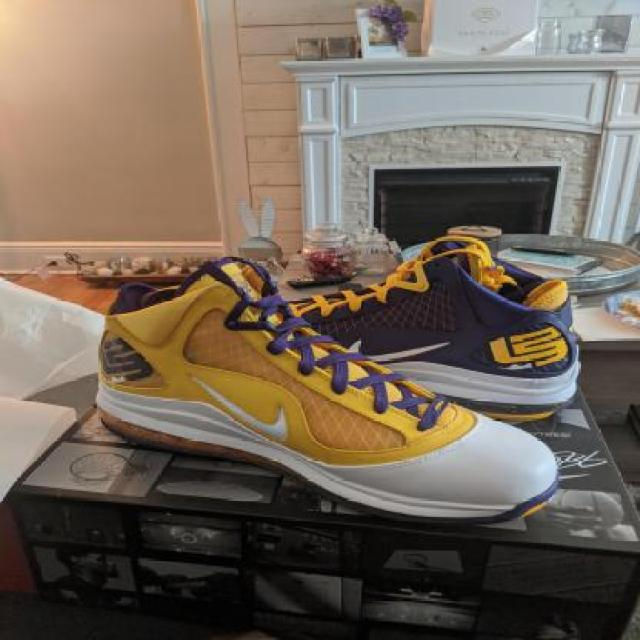shoe: (81, 270, 567, 528), (306, 239, 580, 387)
